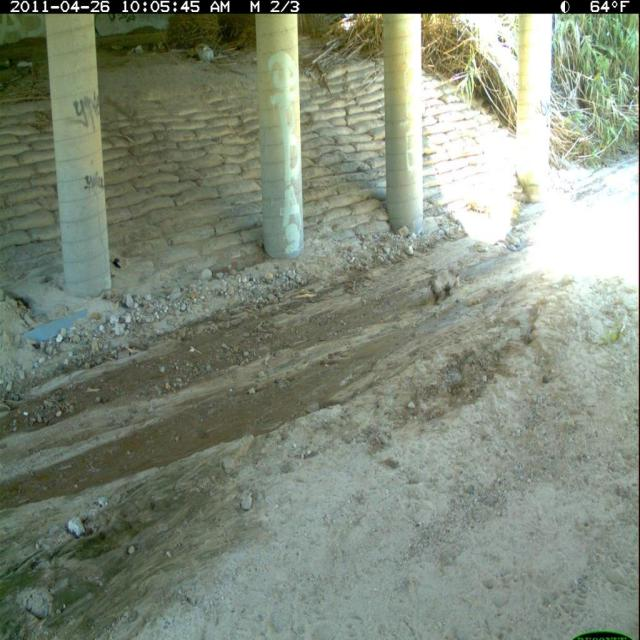opossum: (421, 264, 466, 313)
